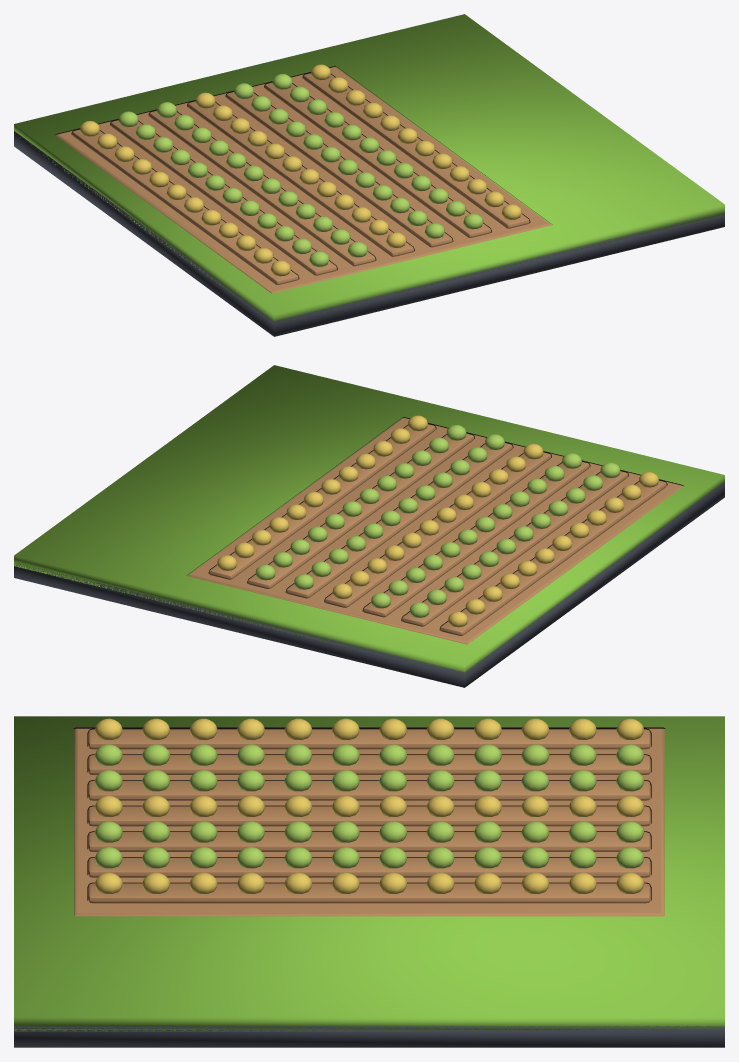
File: Lot_Farm.fbx
3 renders of one model, top to bottom at view 1: azimuth 30°, elevation 25°; view 2: azimuth 150°, elevation 25°; view 3: azimuth 270°, elevation 25°, orthographic. The views are drawn at different scales.
Visible parts, largest first — view 1: Tile_Lot_Farm_Grass, Tile_Lot_Farm_Dirt, Tile_Lot_Farm_FieldGreen, Tile_Lot_Farm_Asphalt, Tile_Lot_Farm_Field, Tile_Lot_Farm_Outline; view 2: Tile_Lot_Farm_Grass, Tile_Lot_Farm_Dirt, Tile_Lot_Farm_FieldGreen, Tile_Lot_Farm_Asphalt, Tile_Lot_Farm_Field, Tile_Lot_Farm_Outline; view 3: Tile_Lot_Farm_Grass, Tile_Lot_Farm_Dirt, Tile_Lot_Farm_FieldGreen, Tile_Lot_Farm_Field, Tile_Lot_Farm_Asphalt, Tile_Lot_Farm_Outline.
Boxes of the visible parts, x1,y1,x2,y2 form: Tile_Lot_Farm_Grass: (14, 14, 724, 324); Tile_Lot_Farm_Dirt: (56, 66, 551, 293); Tile_Lot_Farm_FieldGreen: (118, 74, 483, 266); Tile_Lot_Farm_Asphalt: (14, 131, 724, 336); Tile_Lot_Farm_Field: (80, 64, 521, 276); Tile_Lot_Farm_Outline: (54, 66, 552, 279); Tile_Lot_Farm_Grass: (14, 365, 724, 675); Tile_Lot_Farm_Dirt: (187, 417, 682, 644); Tile_Lot_Farm_FieldGreen: (255, 425, 620, 617); Tile_Lot_Farm_Asphalt: (14, 482, 724, 687); Tile_Lot_Farm_Field: (217, 415, 658, 627); Tile_Lot_Farm_Outline: (186, 417, 684, 630); Tile_Lot_Farm_Grass: (14, 716, 724, 1031); Tile_Lot_Farm_Dirt: (74, 728, 664, 916); Tile_Lot_Farm_FieldGreen: (94, 744, 644, 868); Tile_Lot_Farm_Field: (94, 718, 644, 893); Tile_Lot_Farm_Asphalt: (14, 1026, 724, 1047); Tile_Lot_Farm_Outline: (73, 727, 665, 900).
Size of the model in its own units: 24 by 2.02 by 24.
